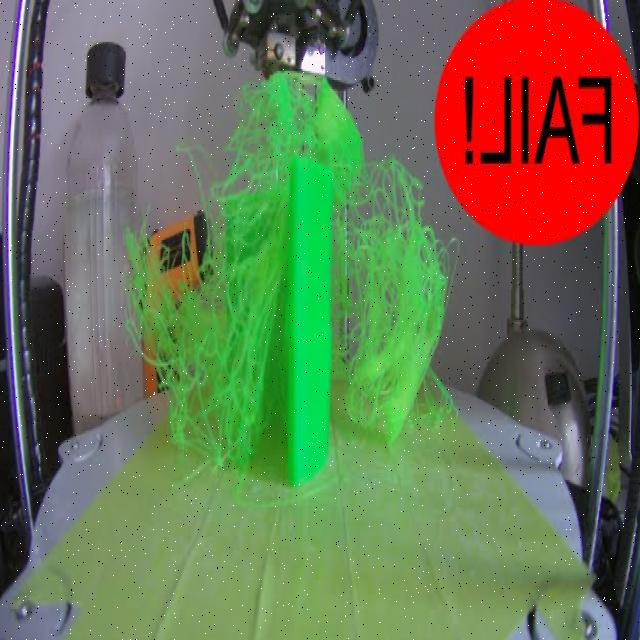spaghetti: (121, 168, 292, 508), (338, 160, 461, 478), (236, 60, 370, 156)
